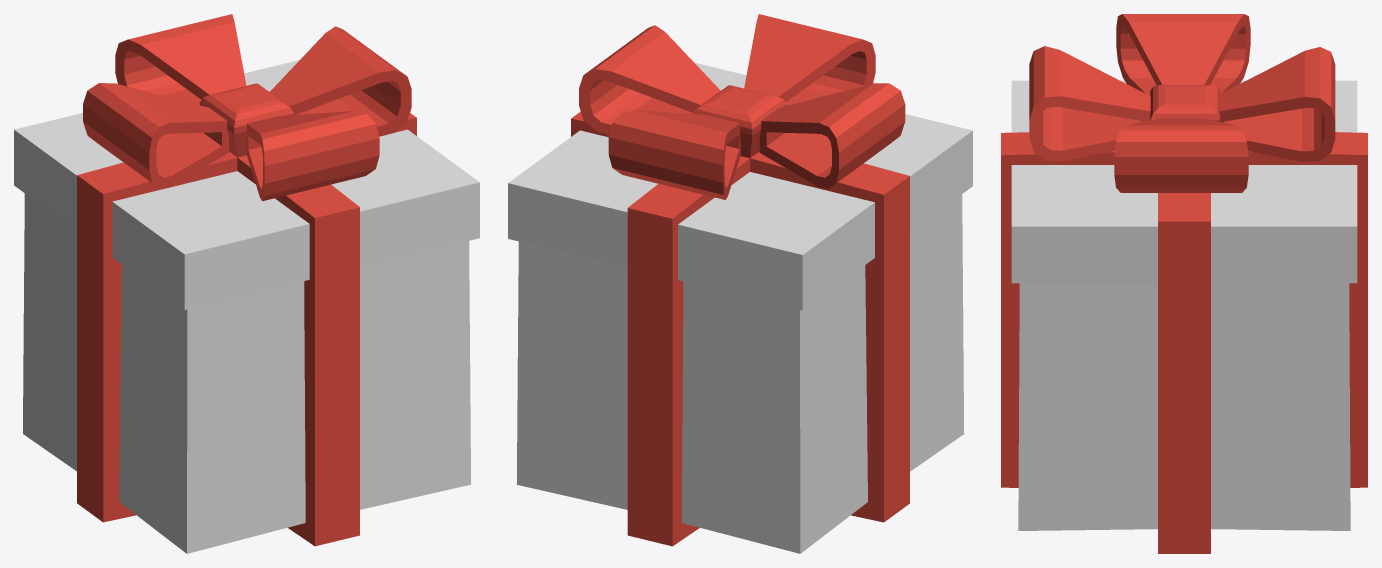
Rendered from redandwhitenonbakedpresent.fbx.
3 views of the same model, side by side, from view 1: azimuth 30°, elevation 25°; view 2: azimuth 150°, elevation 25°; view 3: azimuth 270°, elevation 25° (orthographic).
Visible parts, largest first — view 1: Present; view 2: Present; view 3: Present.
Boxes of the visible parts, x1,y1,x2,y2 form: Present: (14,14,479,553); Present: (508,14,972,553); Present: (1001,14,1367,553).
Size of the model in its own units: 212 by 261 by 212.
